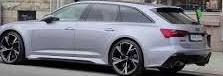Crossovers: (1, 3, 212, 76)
